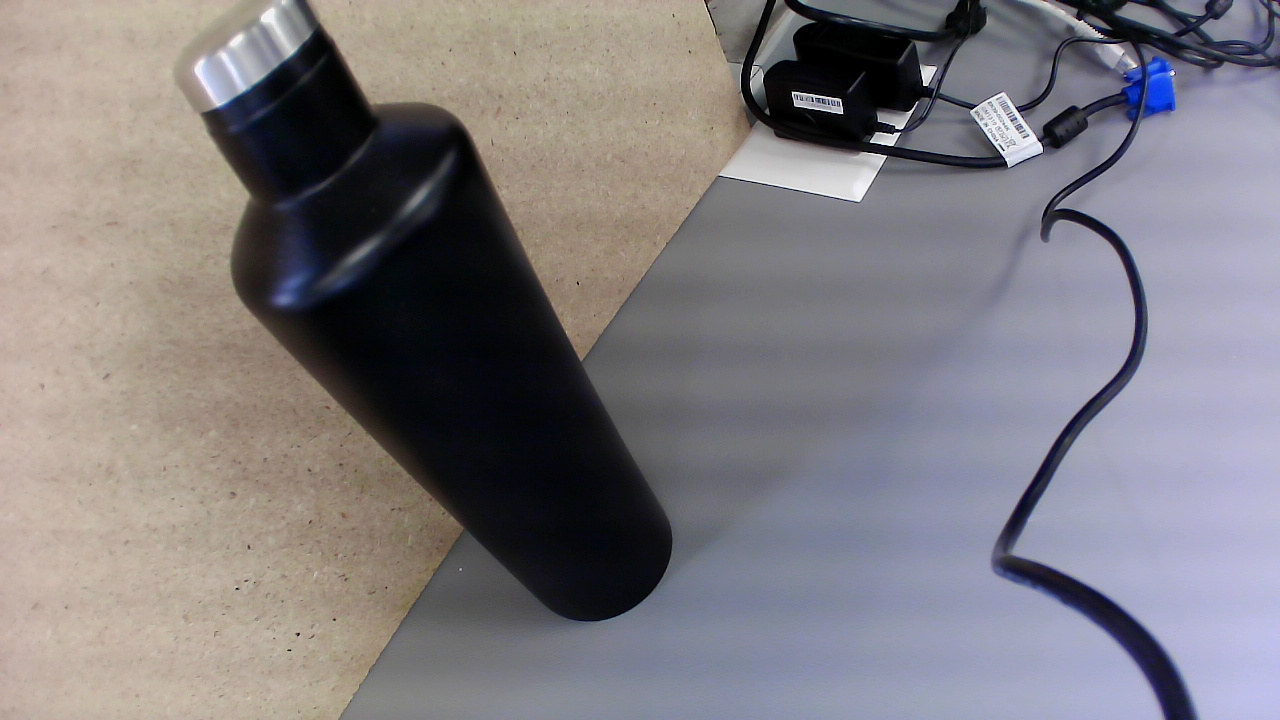neobottle: (164, 1, 677, 641)
